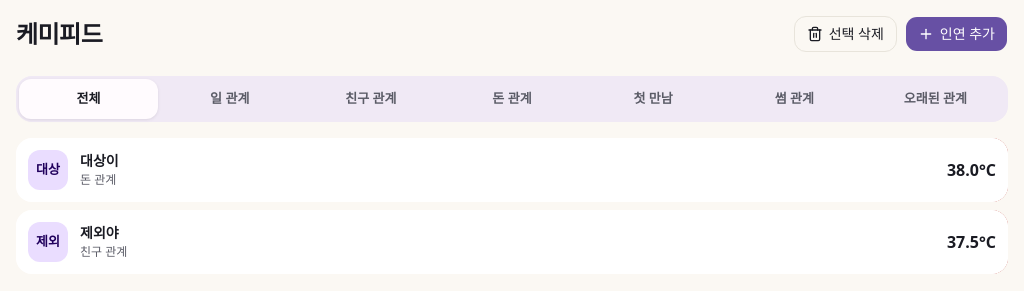
Test case: FeedPage › 돈합 필터 클릭 시 해당 모드 항목만 표시된다
Expected: the text "대상이" is shown, [80,151,119,170]
Click the radio button labelled "돈 관계" at x=512, y=99, box [442,79,582,118]
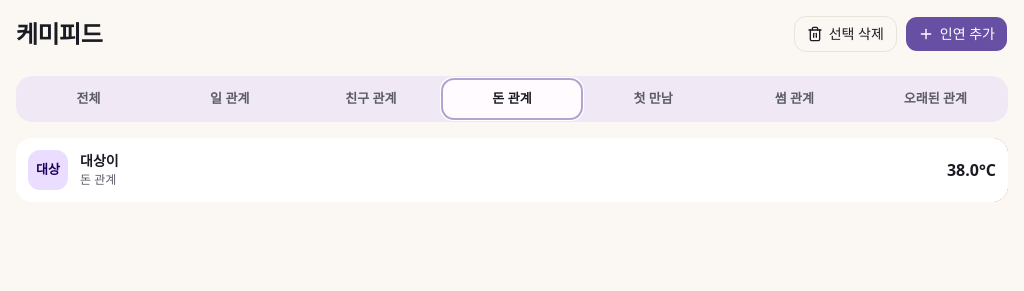
Expected: the text "대상이" is shown, [80,151,119,170]
Expected: the button "제외야" is gone
